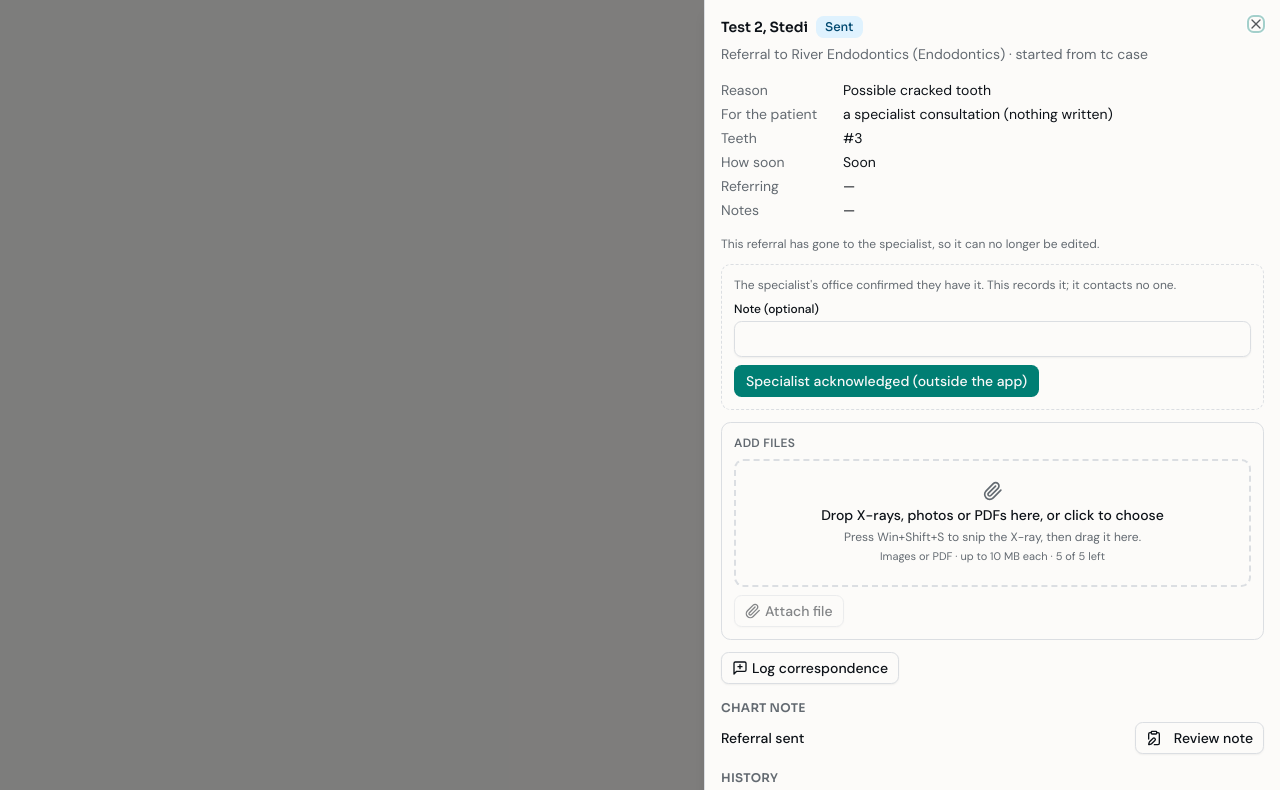
Scenario: 4: writing › a refusal shows the server's sentence, keeps the text, and nothing reads as written
Expected: the heading "History" is shown, 721,770 -> 778,785
Step 1. Click the button with test id "tc-chart-note-sent-review" → (1199, 738), box 1135,722 -> 1264,754
(page scrolled)
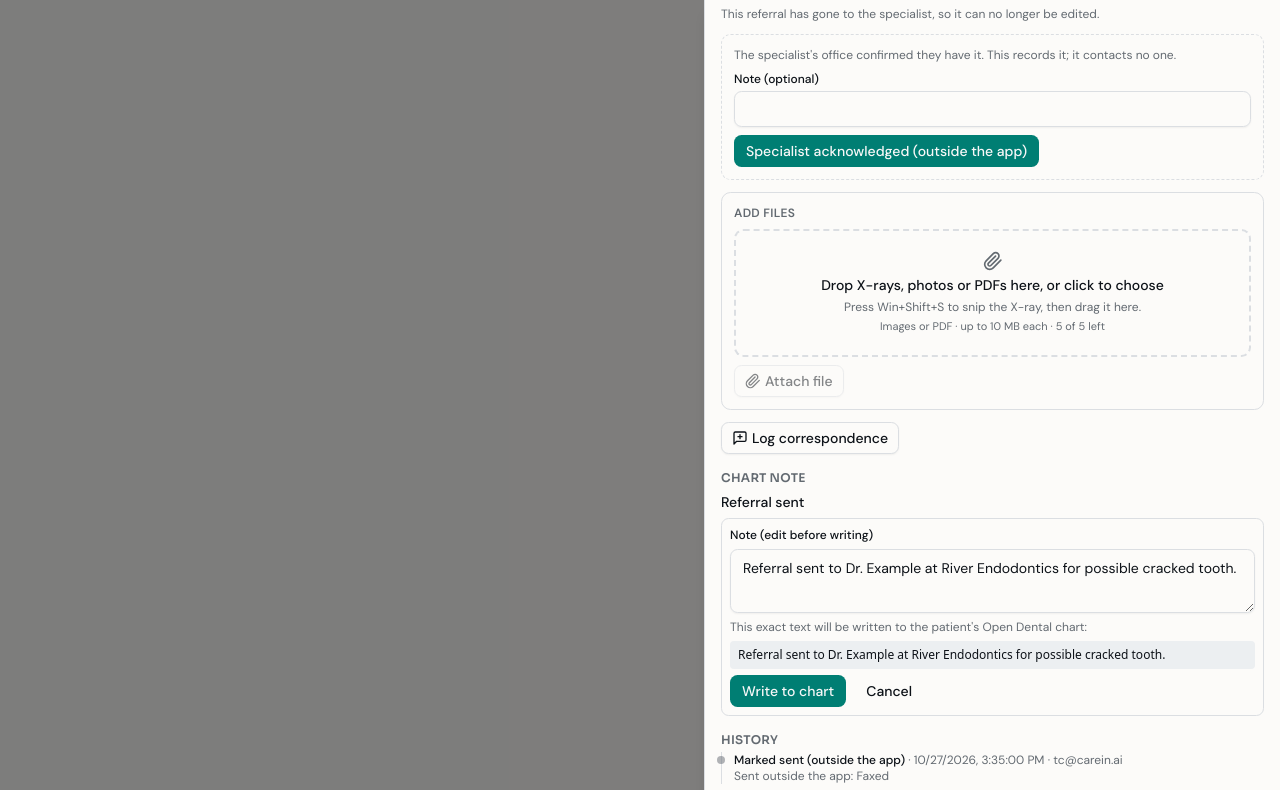
Step 2. Click the button with test id "tc-chart-note-sent-write" → (788, 691), box 730,675 -> 846,707
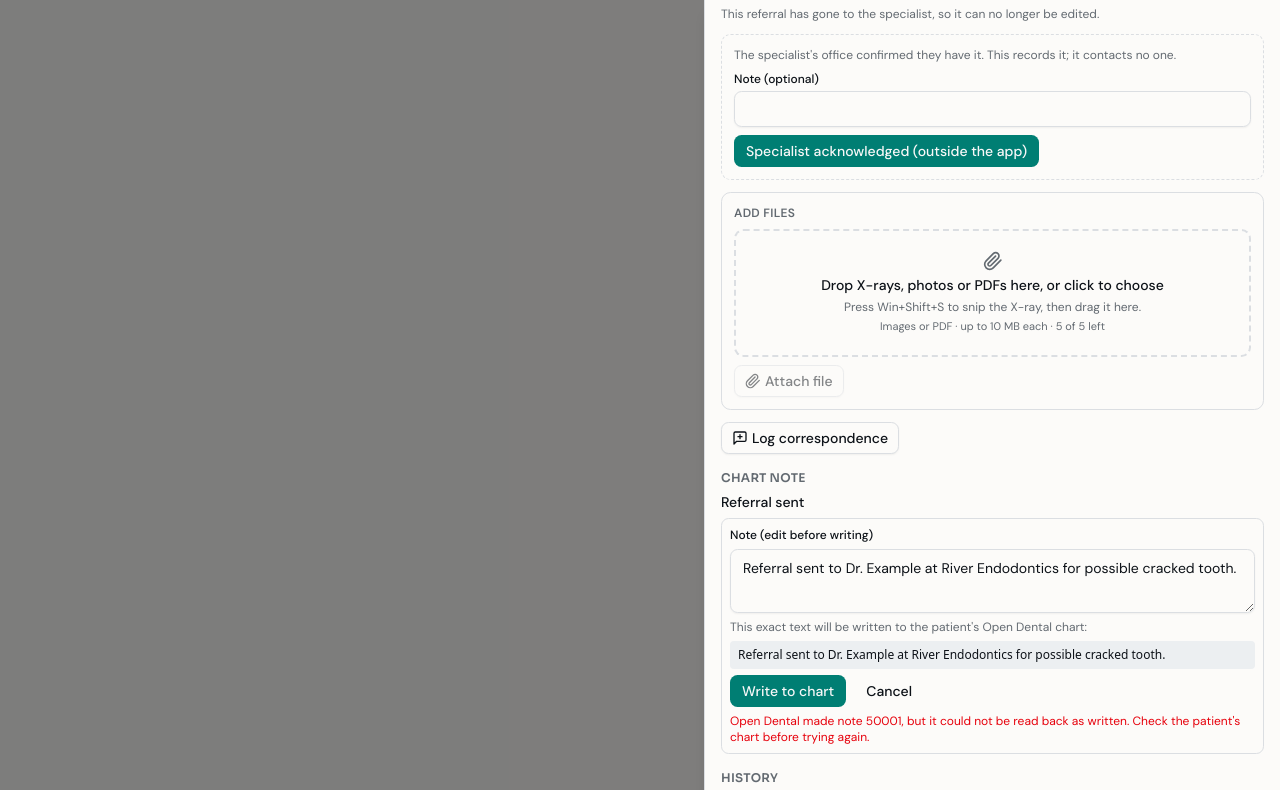
Expected: the text box with test id "tc-chart-note-sent-text" holds "Referral sent to Dr. Example at River Endodontics for possible cracked tooth.", 730,549 -> 1255,613
Expected: the text with test id "tc-chart-note-sent-error" shows "could not be read back", 730,713 -> 1240,745
